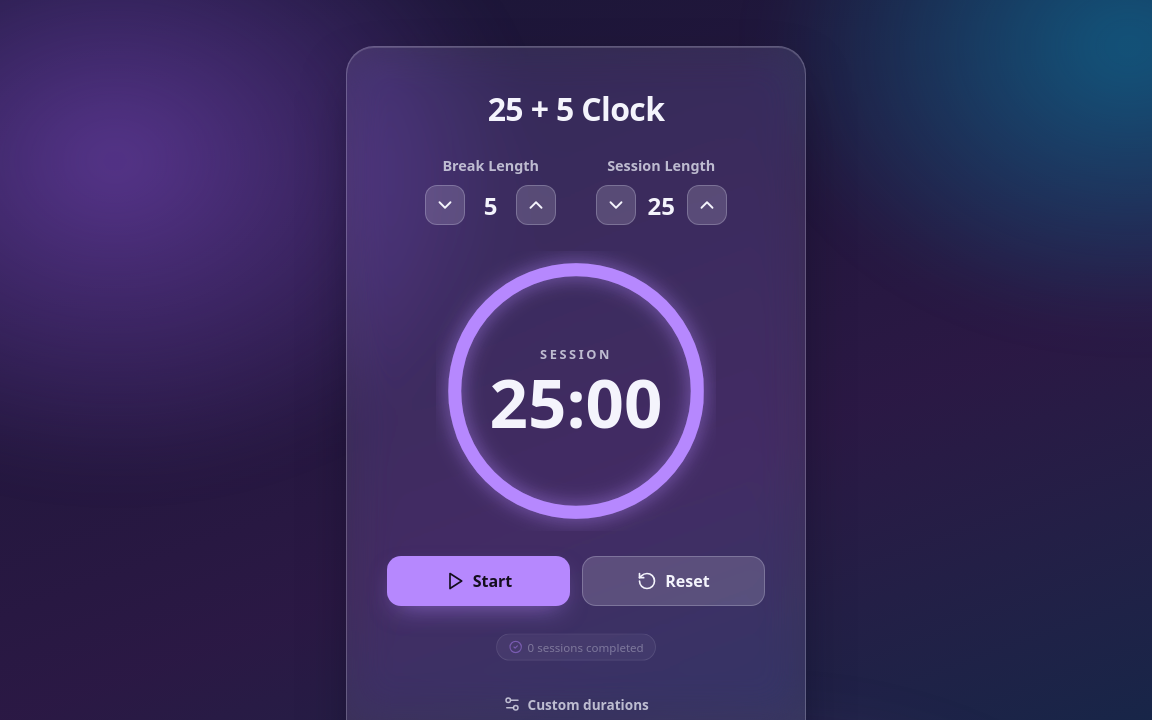
Test: Clock (integration) › increments session length and updates time-left
Click the button with id "session-increment".
click(706, 205)  # box left=686, top=185, right=726, bottom=225
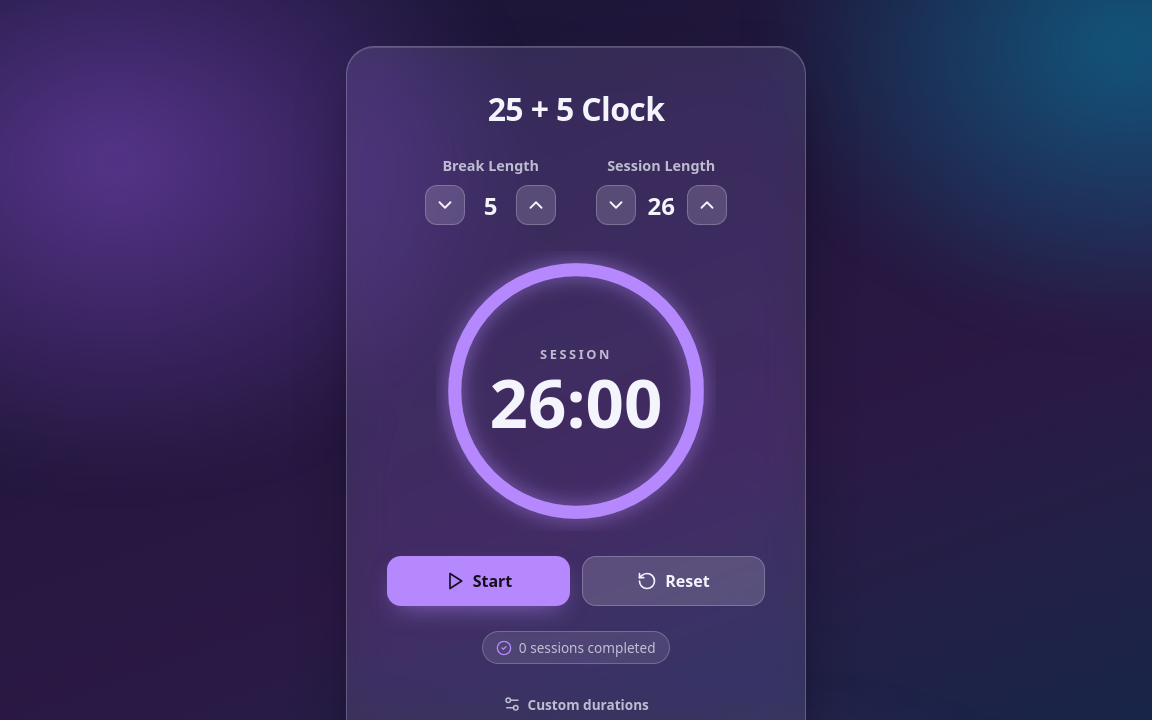
Expected: the text with id "session-length" reads "26", left=648, top=189, right=675, bottom=222
Expected: the text with id "time-left" reads "26:00", left=490, top=356, right=662, bottom=448
